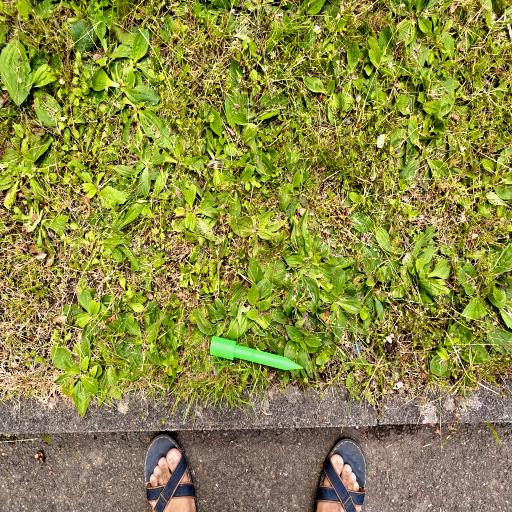Probe-Detection: (210, 336, 302, 370)
